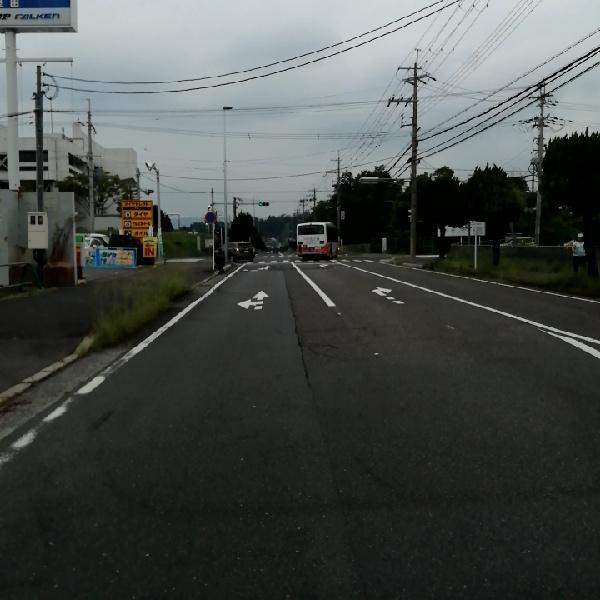D10: (291, 323, 375, 333)
D20: (298, 338, 338, 359)
D44: (0, 272, 221, 479)
